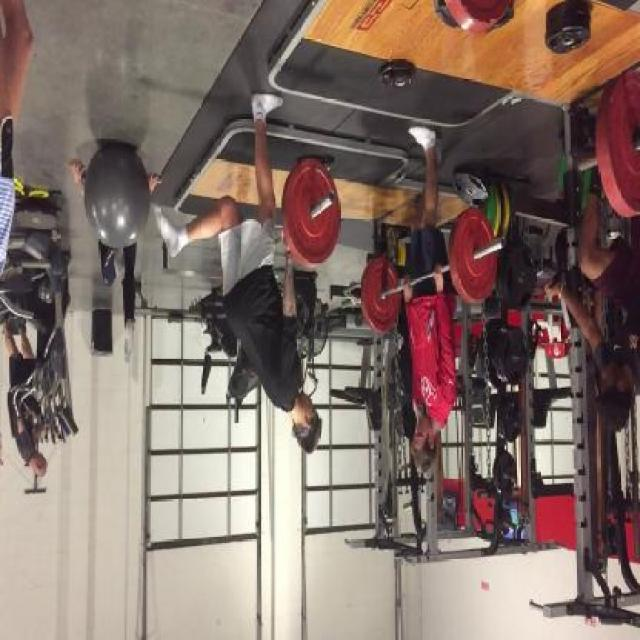Barbell: (326, 187, 336, 207), (497, 233, 508, 250)
